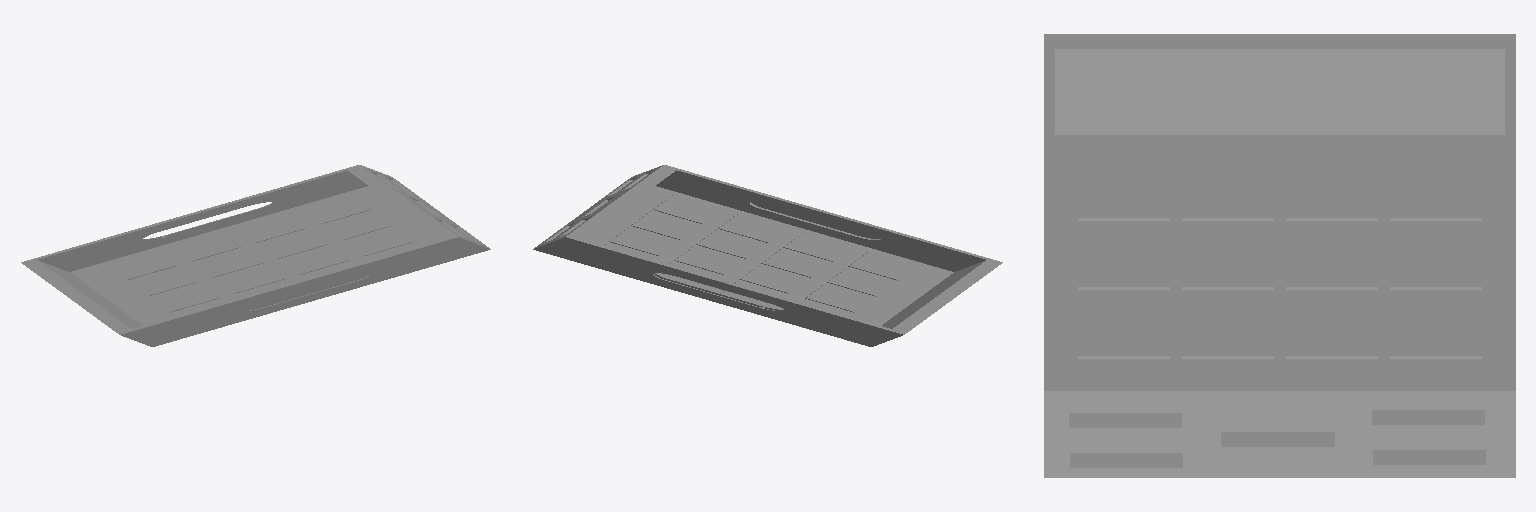
robot.urdf — basket:
<?xml version="1.0" ?>
<robot name="basket">
  <link name="base_link">
    <visual>
      <origin xyz="-1.614183 -0.523254 0.000015" rpy="0 0 0" />
      <geometry>
        <mesh filename="model.obj" scale="0.03146249 0.00794978 0.00502563" />
      </geometry>
      <material name="basket_color">
        <color rgba="0.62 0.62 0.62 1.0" />
      </material>
    </visual>
    <collision>
      <origin xyz="0 0 0" rpy="0 0 0" />
      <geometry>
        <box size="0.546000 0.252000 0.006" />
      </geometry>
    </collision>
    <inertial>
      <mass value="0" />
      <inertia ixx="0" ixy="0" ixz="0" iyy="0" iyz="0" izz="0" />
    </inertial>
  </link>
</robot>

--- What the picture shows (computed from the rendered views, not written in the file) ---
The picture shows the robot from 3 angles, left to right: view 1: azimuth 30°, elevation 25°; view 2: azimuth 150°, elevation 25°; view 3: azimuth 270°, elevation 25°; orthographic projection.
Robot: basket — 1 links, 0 joints (none); root link base_link; default pose: all joints at 0.
Visible links, largest first — view 1: base_link; view 2: base_link; view 3: base_link.
Boxes of the visible links, <box> form: base_link: <box>21,165,490,346</box>; base_link: <box>533,165,1002,346</box>; base_link: <box>1044,34,1515,477</box>.
Bounding box of the posed robot: 0.5458 × 0.252 × 0.05 m (x, y, z).
Meshes: 1 distinct files referenced, 1 mesh visuals loaded (1 OBJ).
